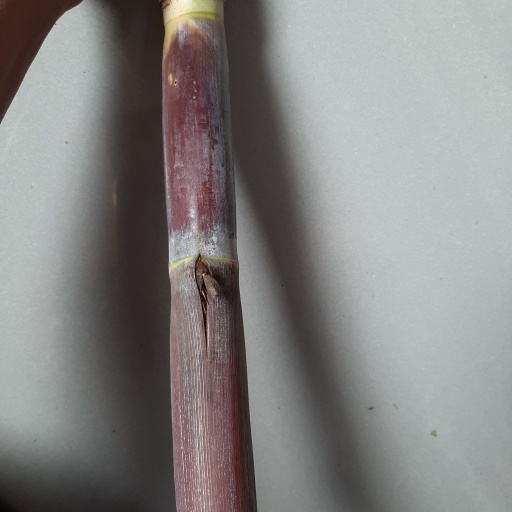Damage_Bud: (193, 254, 217, 315)
